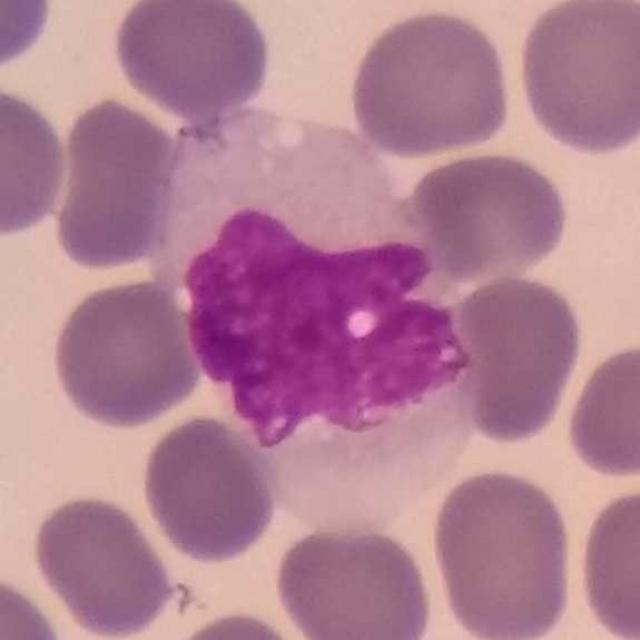Monocyte: (154, 106, 488, 538)
RBC: (426, 464, 580, 640), (345, 5, 516, 162), (448, 268, 588, 448), (47, 274, 206, 432), (48, 92, 182, 275), (404, 146, 573, 283), (27, 491, 180, 640), (138, 411, 281, 566), (270, 517, 438, 640), (513, 0, 640, 159), (109, 0, 275, 120), (0, 79, 72, 241), (561, 337, 640, 483), (573, 478, 640, 640), (157, 606, 316, 640), (0, 571, 67, 640), (0, 0, 59, 76)
